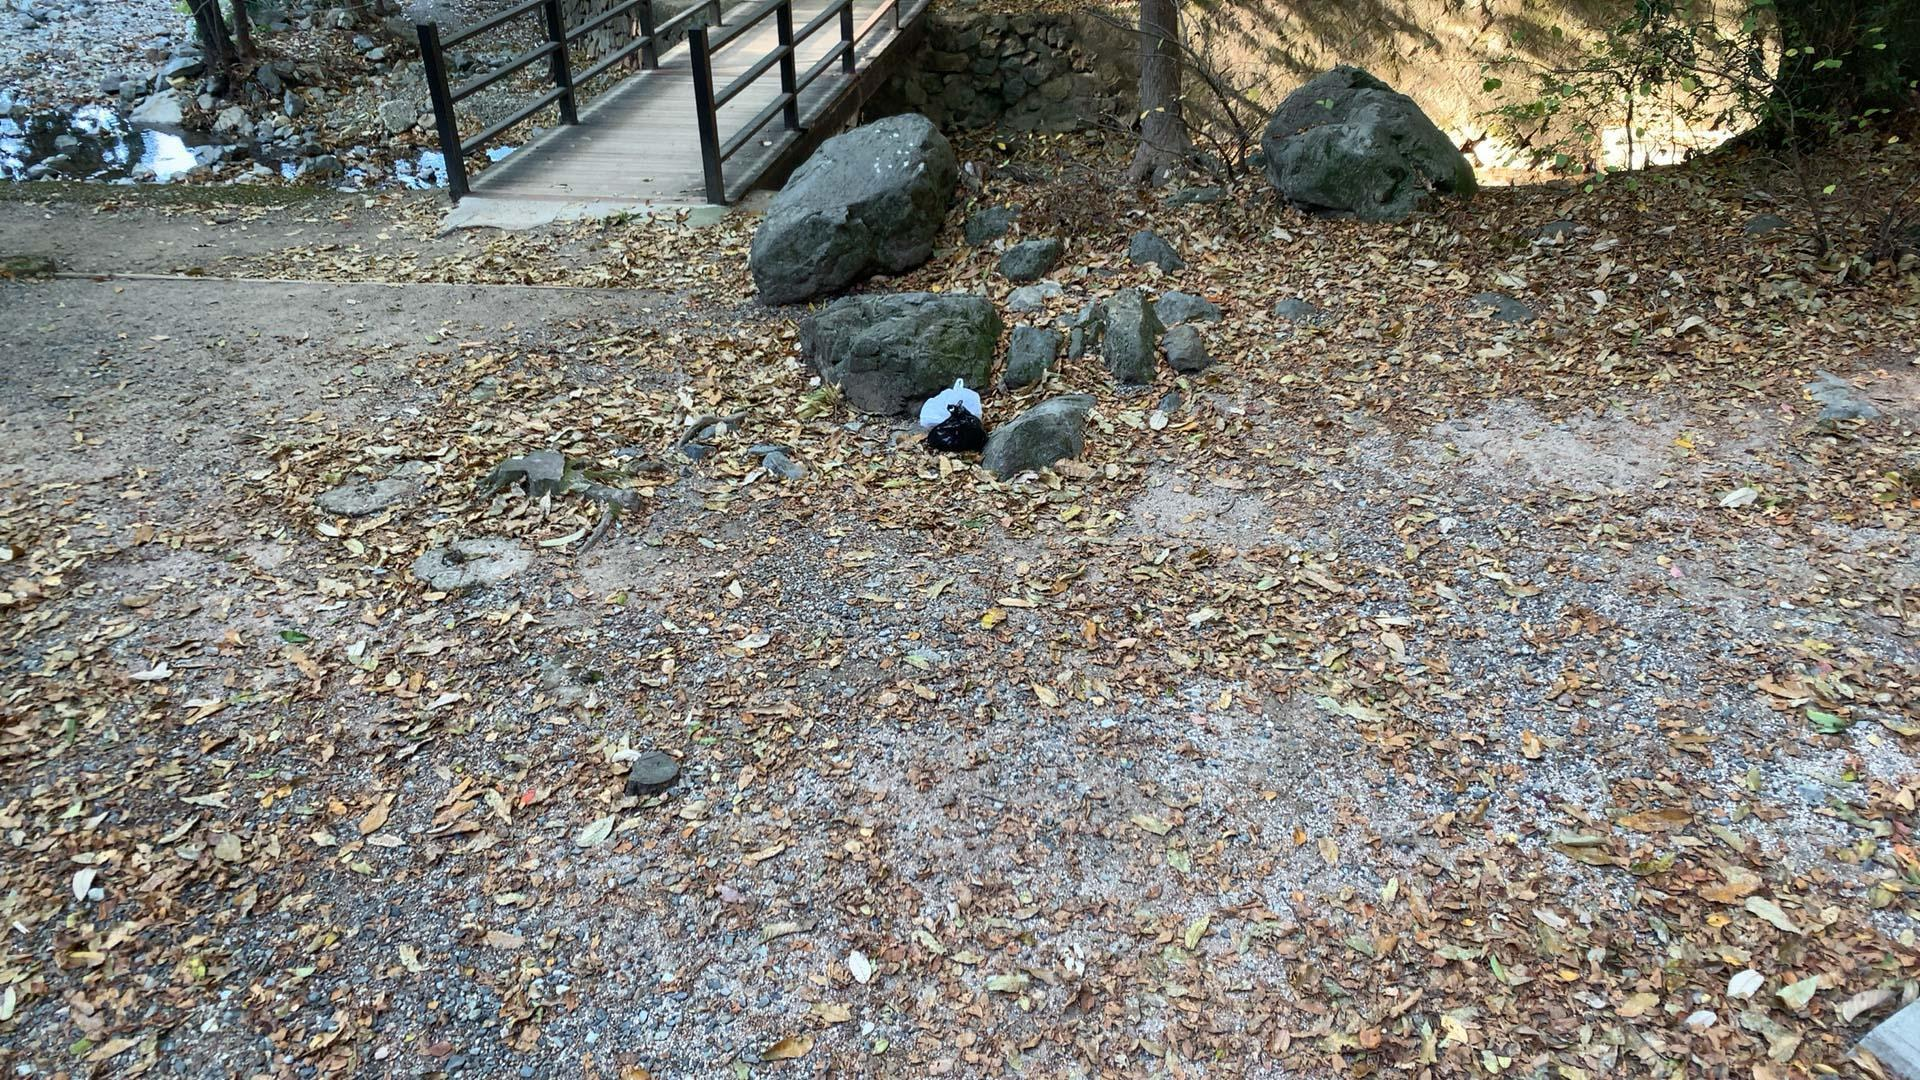black_bag: (924, 400, 989, 452)
white_bag: (916, 376, 984, 430)
